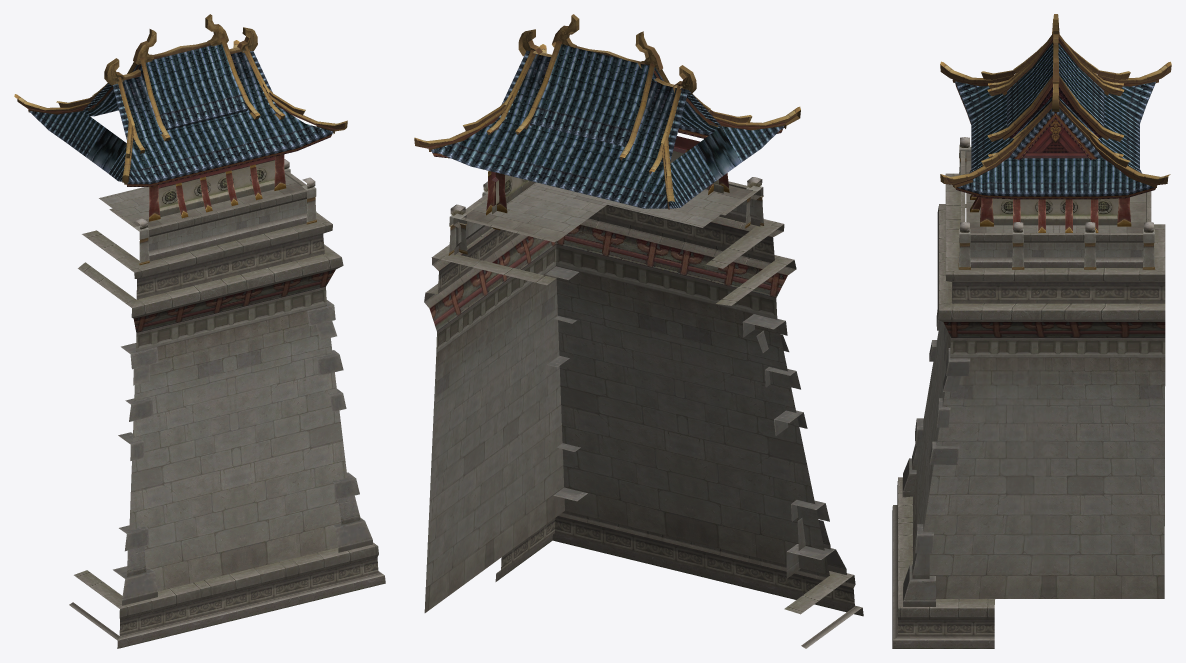
The model's file is cj_luoyang_chengqiang02_55_34_7284out.fbx.
The picture shows the model from 3 angles, left to right: view 1: azimuth 30°, elevation 25°; view 2: azimuth 150°, elevation 25°; view 3: azimuth 270°, elevation 25°; orthographic projection. The views are drawn at different scales.
Visible parts, largest first — view 1: 0002_cj_luoyang_chengqiang02, 0000_cj_luoyang_chengqiang02, 0001_cj_luoyang_chengqiang02; view 2: 0002_cj_luoyang_chengqiang02, 0000_cj_luoyang_chengqiang02, 0001_cj_luoyang_chengqiang02; view 3: 0002_cj_luoyang_chengqiang02, 0001_cj_luoyang_chengqiang02, 0000_cj_luoyang_chengqiang02.
Boxes of the visible parts, x1,y1,x2,y2 form: 0002_cj_luoyang_chengqiang02: (69, 171, 385, 648); 0000_cj_luoyang_chengqiang02: (29, 44, 333, 186); 0001_cj_luoyang_chengqiang02: (14, 14, 372, 605); 0002_cj_luoyang_chengqiang02: (424, 181, 863, 648); 0000_cj_luoyang_chengqiang02: (431, 44, 784, 208); 0001_cj_luoyang_chengqiang02: (414, 14, 846, 578); 0002_cj_luoyang_chengqiang02: (892, 147, 1165, 648); 0001_cj_luoyang_chengqiang02: (902, 14, 1171, 606); 0000_cj_luoyang_chengqiang02: (955, 42, 1155, 199).
Bounding box in the file's own units: 4.39 × 8.35 × 3.81.
